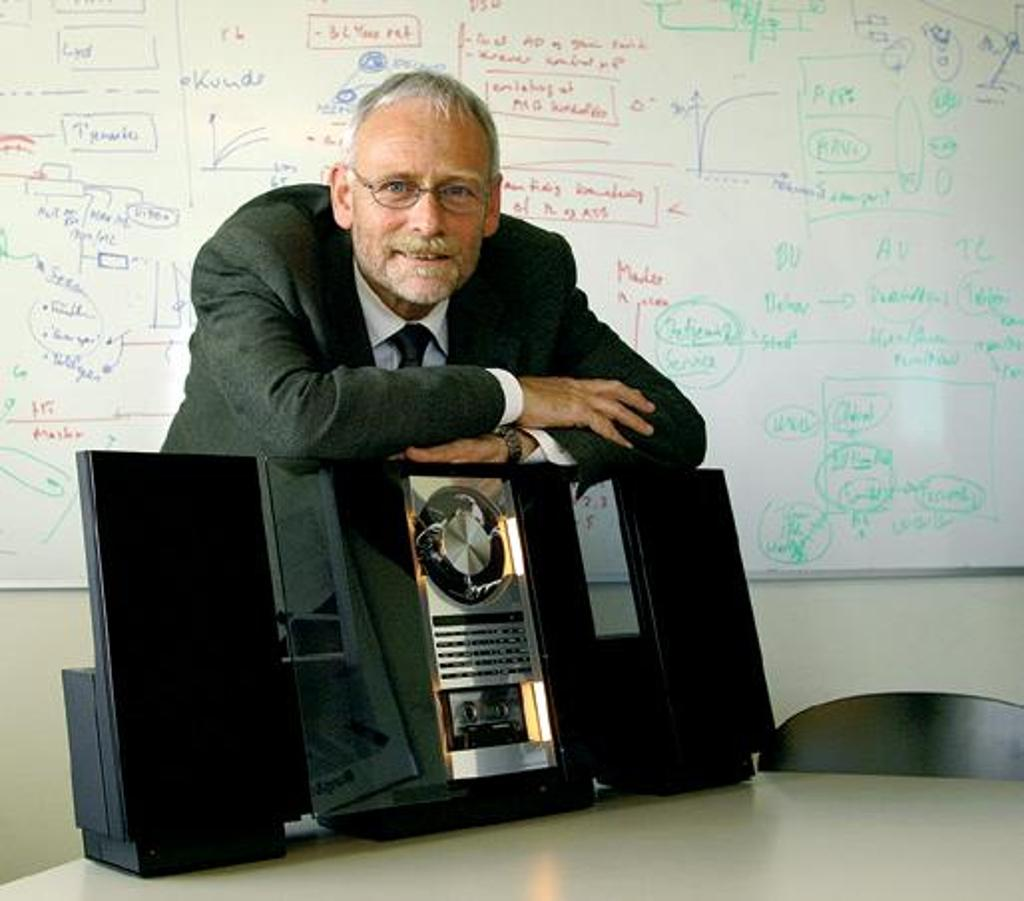face: (356, 102, 492, 298)
